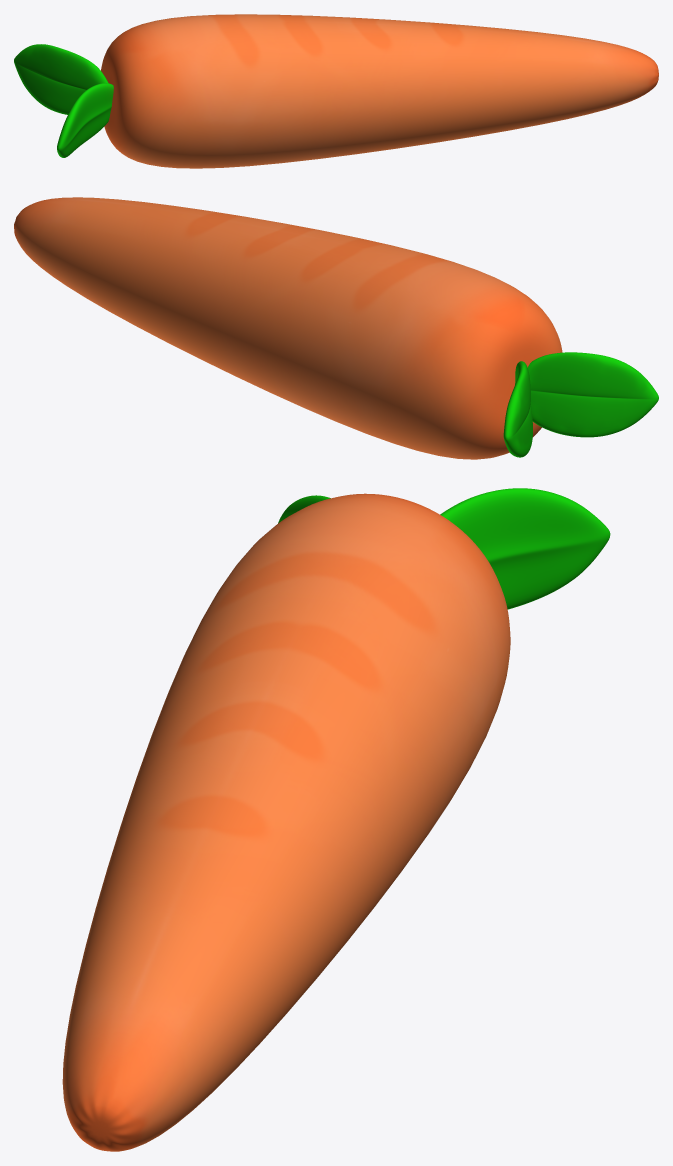
File: Carrot.fbx
3 renders of one model, top to bottom at view 1: azimuth 30°, elevation 25°; view 2: azimuth 150°, elevation 25°; view 3: azimuth 270°, elevation 25°, orthographic. The views are drawn at different scales.
Parts seen in each view (by area): view 1: SM_Carrot; view 2: SM_Carrot; view 3: SM_Carrot.
Part boxes in pixels (x1,y1,x2,y2): SM_Carrot: [14, 14, 658, 168]; SM_Carrot: [14, 197, 658, 459]; SM_Carrot: [62, 488, 610, 1151].
Size of the model in its own units: 71.34 by 17.51 by 30.4.
